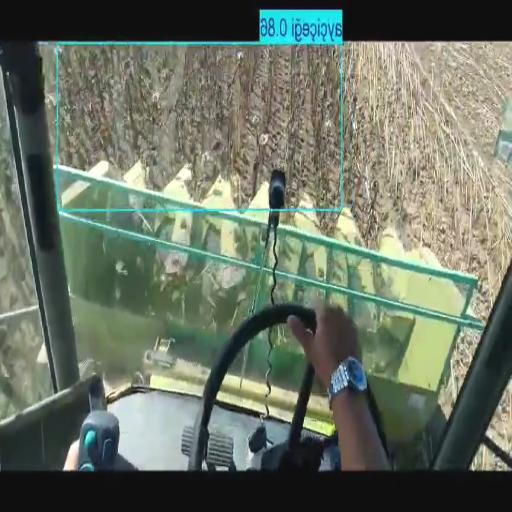ayc: (59, 46, 350, 206)
